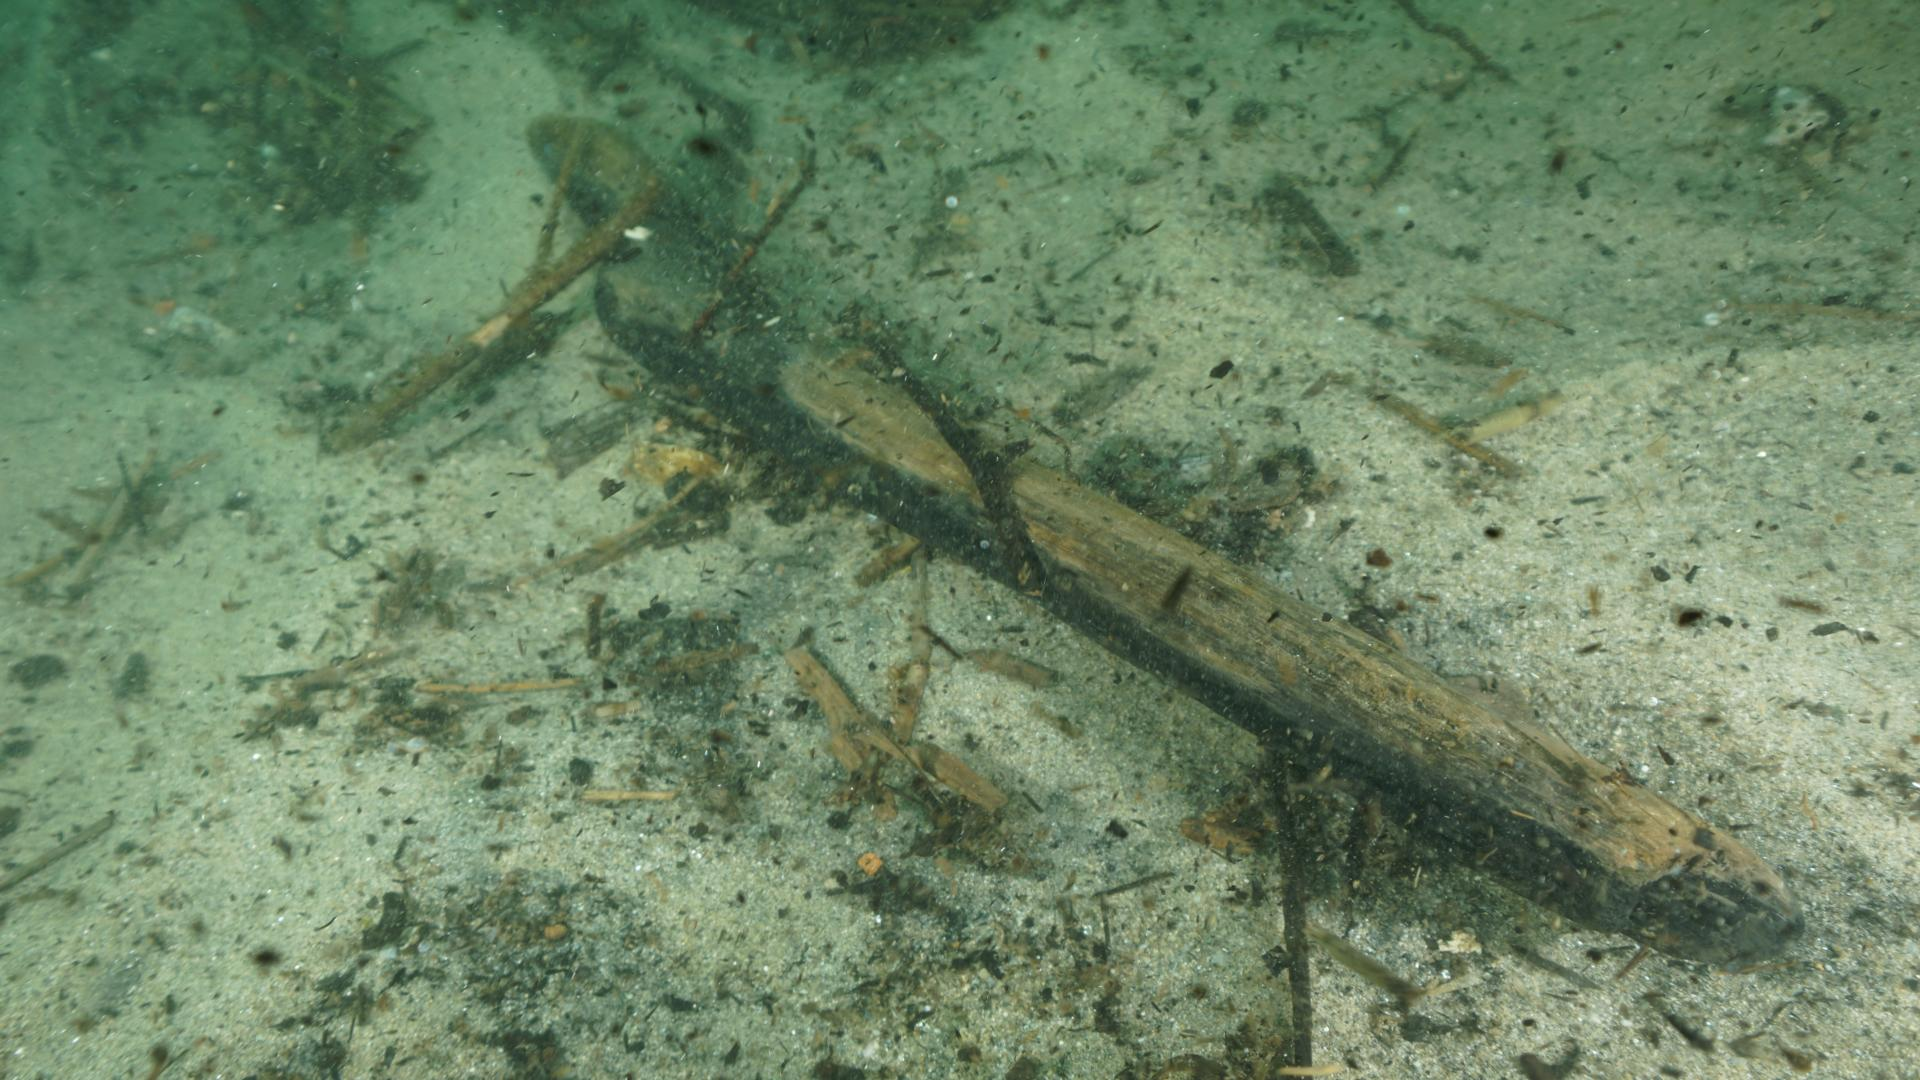wood: (535, 112, 1800, 956)
